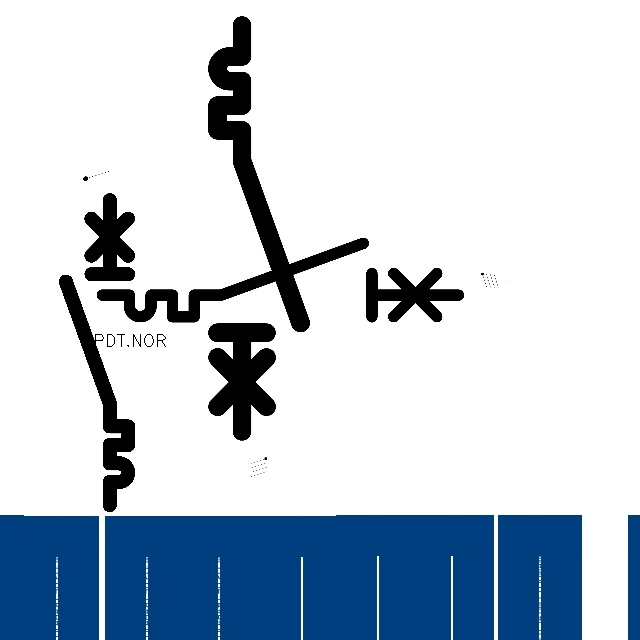interruptor_termomagnetico: (207, 15, 311, 442), (93, 234, 467, 326), (58, 192, 136, 513)
